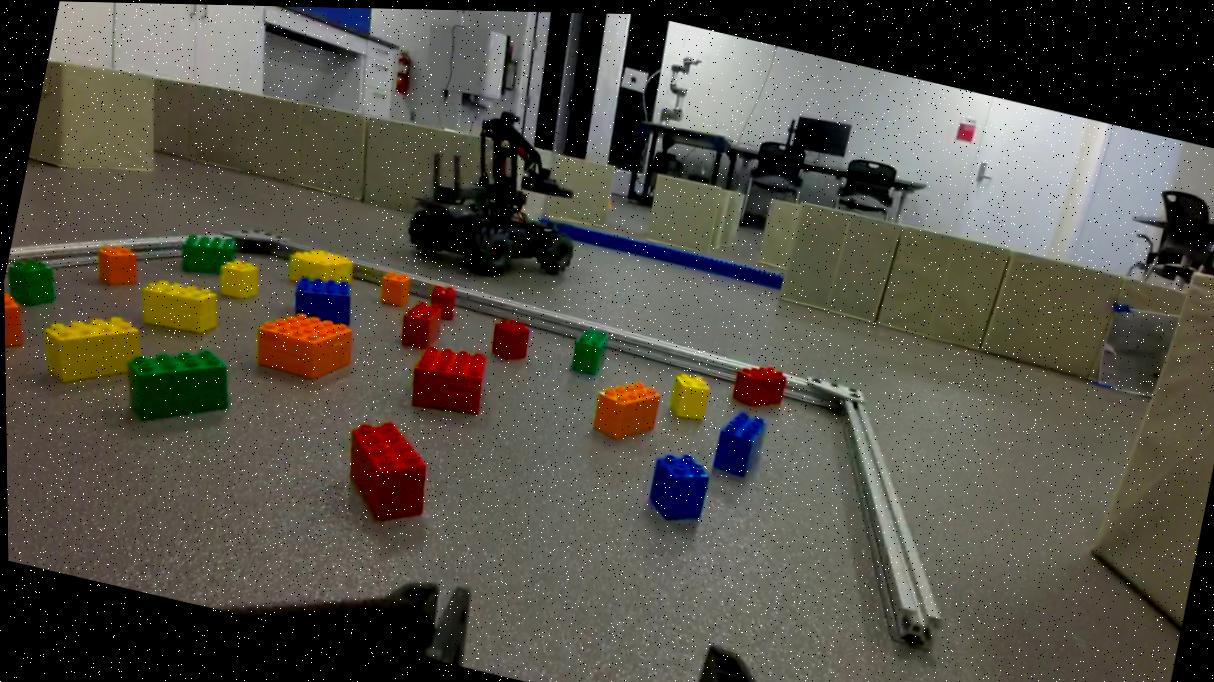2x2lego: (641, 442, 712, 523), (3, 252, 60, 312), (89, 237, 144, 290), (664, 366, 713, 421), (486, 310, 532, 362), (214, 254, 264, 301), (373, 265, 414, 307), (427, 281, 458, 308)
2x4lego: (113, 331, 238, 439), (331, 410, 438, 528), (32, 298, 142, 397), (132, 271, 223, 339), (587, 368, 664, 444), (707, 402, 768, 477), (728, 354, 788, 411), (567, 319, 609, 374)
4x4lego: (246, 300, 359, 388), (402, 335, 490, 419), (284, 240, 358, 291), (289, 269, 356, 324), (175, 224, 239, 281), (394, 292, 444, 351)
